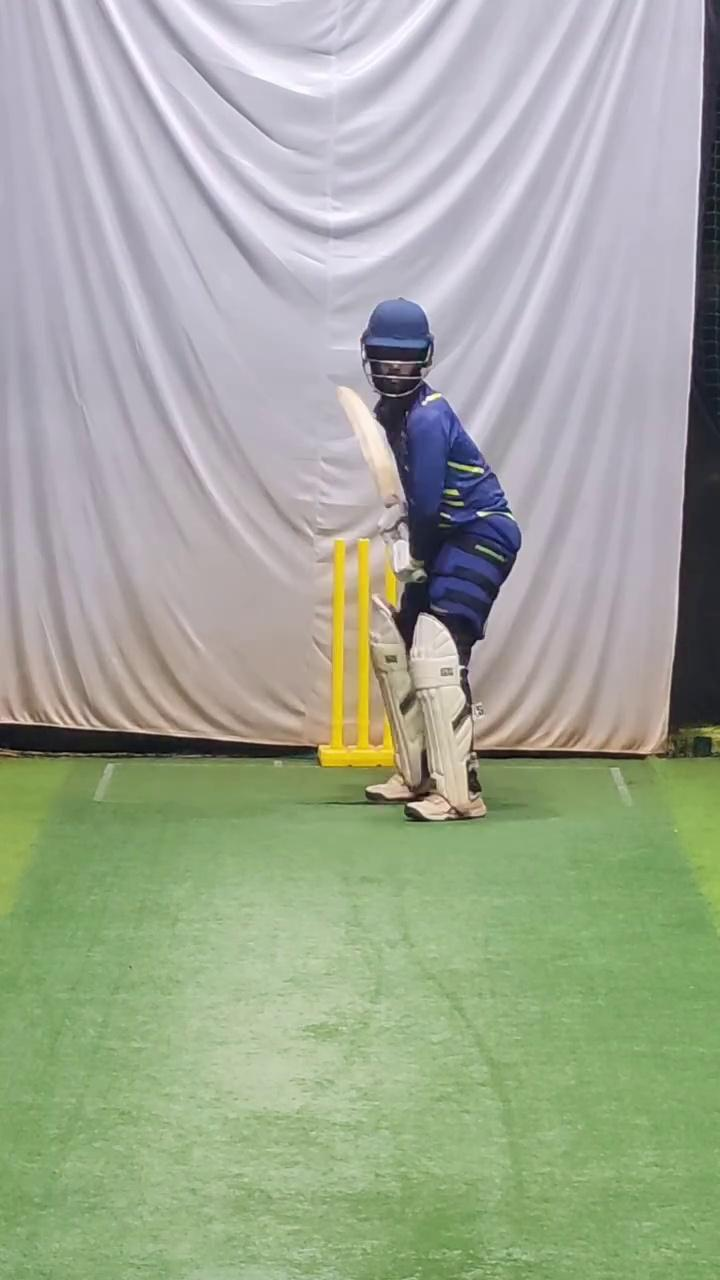bat: (328, 370, 404, 513)
